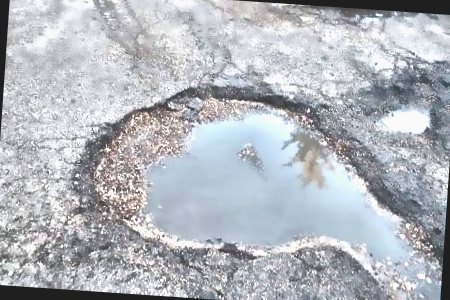pothole: (65, 69, 403, 270), (365, 66, 450, 140), (336, 7, 401, 25)
